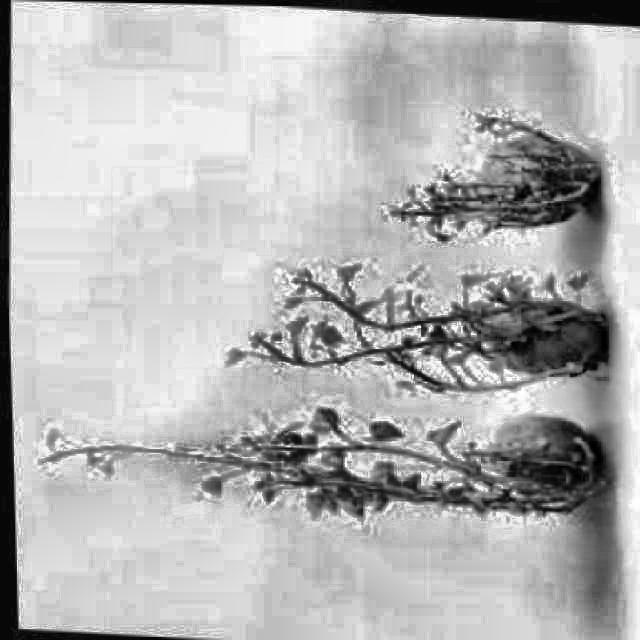plants: (18, 374, 620, 544), (207, 246, 616, 408), (370, 96, 610, 256)
